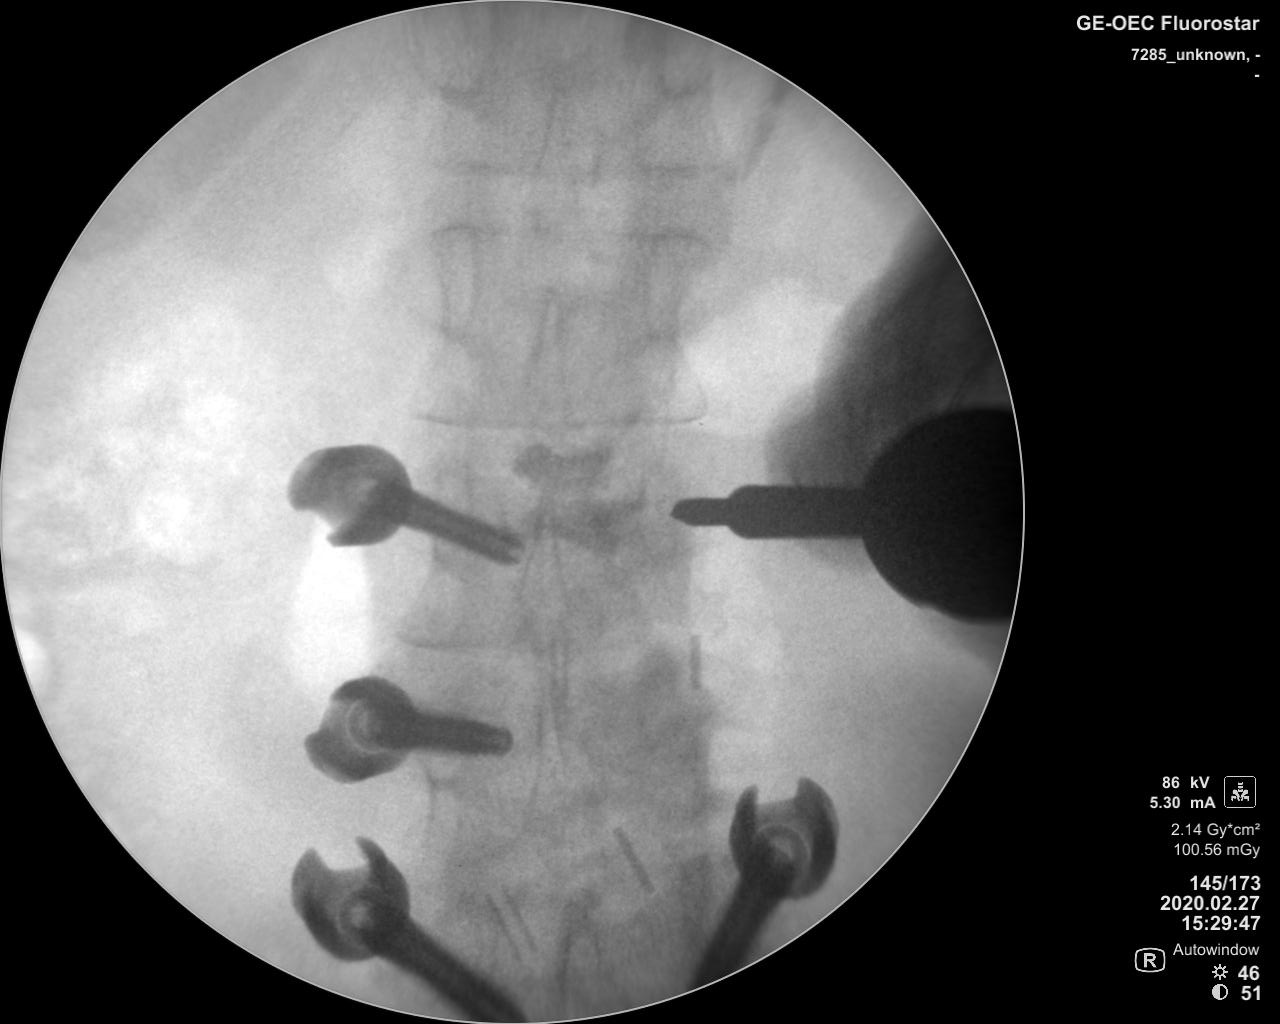eyes: (416, 7, 497, 100), (642, 226, 705, 338), (428, 222, 480, 339), (655, 25, 714, 101), (636, 470, 681, 568)
line: (426, 152, 750, 188), (428, 214, 716, 245), (408, 401, 713, 429)
nose: (523, 76, 577, 240), (521, 290, 572, 440), (520, 499, 567, 658)
